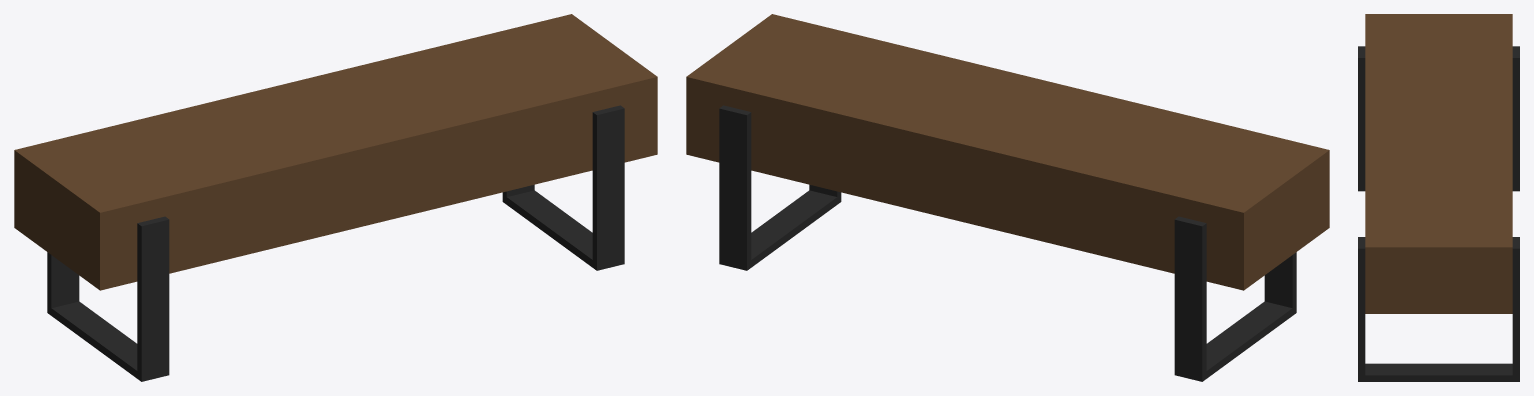
Rendered from furniture_bench-modern.fbx.
3 renders of one model, left to right at view 1: azimuth 30°, elevation 25°; view 2: azimuth 150°, elevation 25°; view 3: azimuth 270°, elevation 25°, orthographic. The views are drawn at different scales.
Parts seen in each view (by area): view 1: furniture_bench_modern; view 2: furniture_bench_modern; view 3: furniture_bench_modern.
Boxes of the visible parts, <box> form: furniture_bench_modern: <box>14,14,657,381</box>; furniture_bench_modern: <box>686,14,1329,381</box>; furniture_bench_modern: <box>1358,14,1519,381</box>.
Size of the model in its own units: 200 by 60.01 by 58.67.
